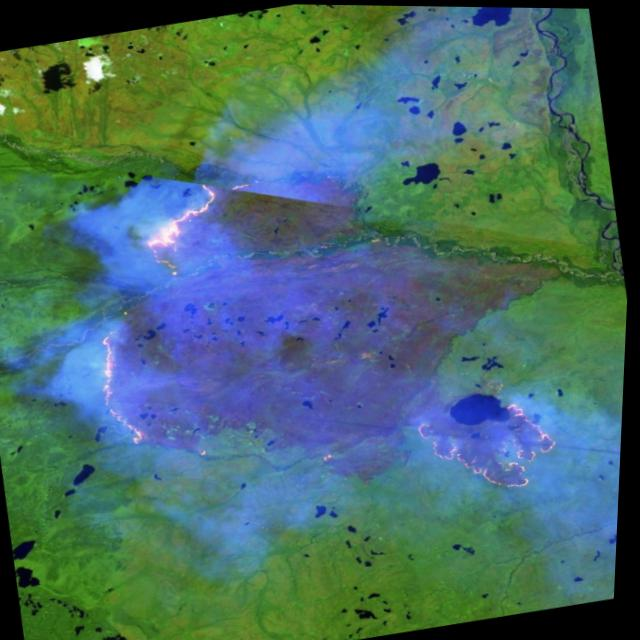fire: (59, 166, 308, 478), (399, 362, 578, 506)
